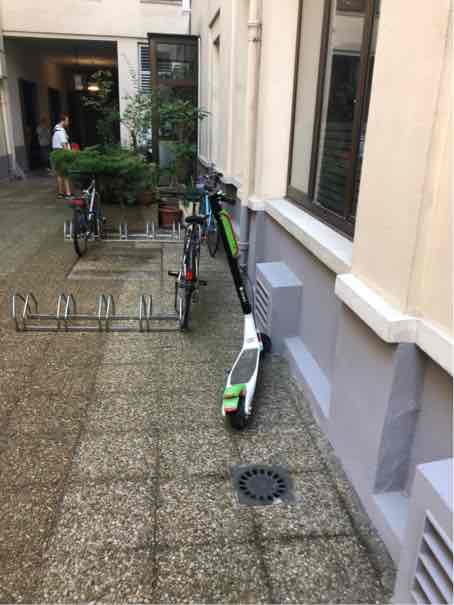scooter: (187, 172, 284, 433)
